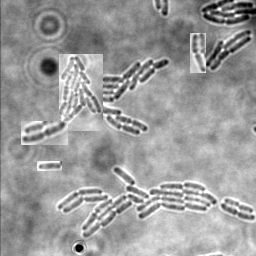Dividing: (21, 121, 68, 145), (219, 204, 255, 222), (190, 33, 206, 73), (223, 199, 253, 215), (37, 161, 62, 171)
Microcolony: (57, 167, 216, 238), (75, 59, 169, 136), (59, 54, 103, 131), (204, 30, 251, 72), (200, 1, 255, 26)
